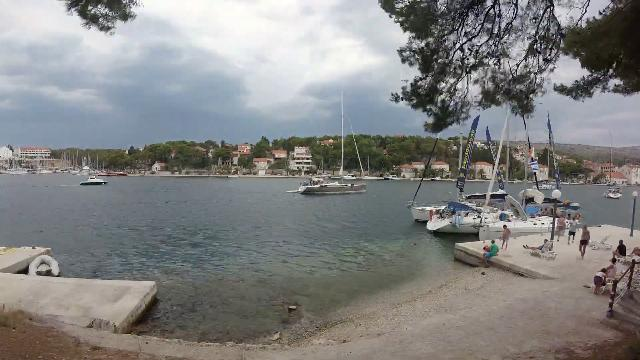Sailboat: (289, 167, 373, 200)
speedboat: (77, 171, 111, 191)
